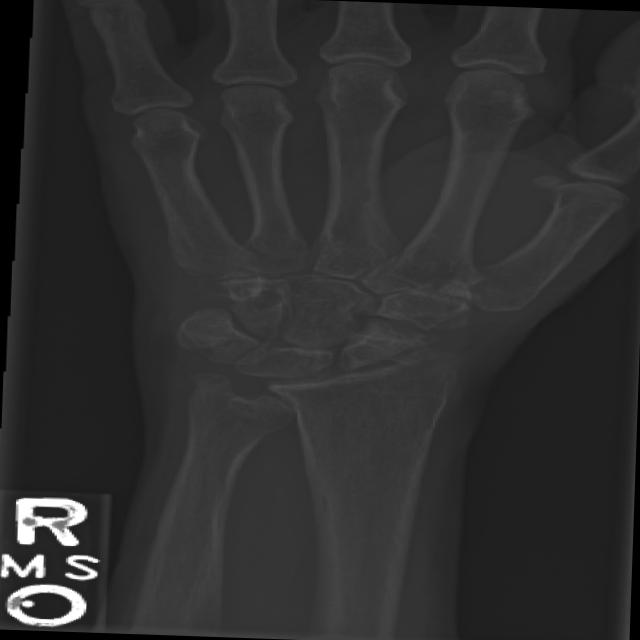wrist positive: (349, 278, 469, 364)
